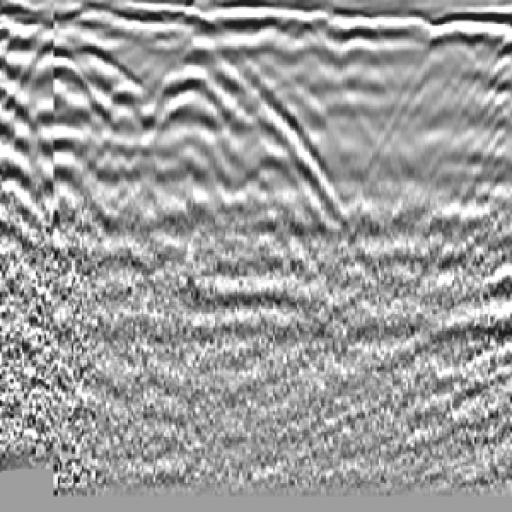metalic: (455, 41, 512, 125)
non-metallic: (139, 44, 339, 227), (1, 42, 151, 233)
